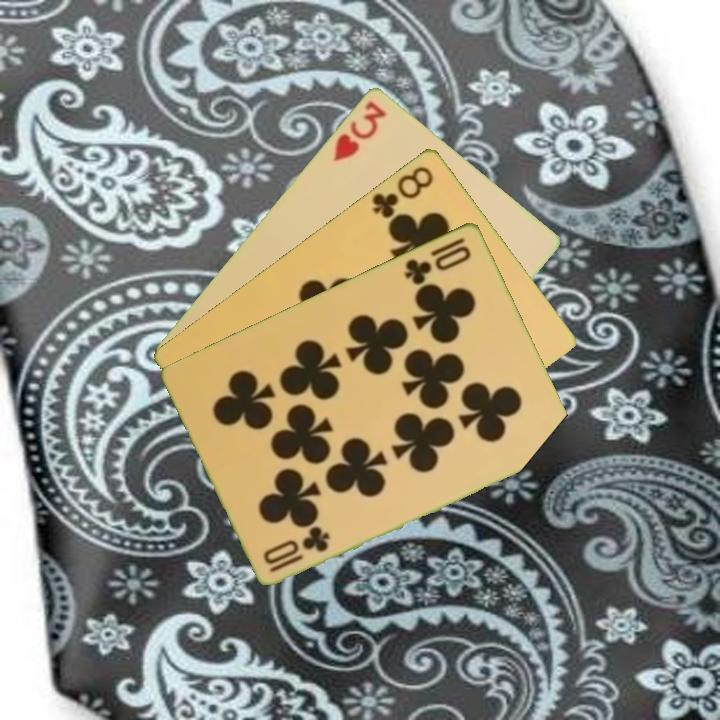10c: (401, 233, 475, 288), (266, 524, 334, 575)
3h: (329, 96, 390, 164)
8c: (368, 162, 437, 221)
